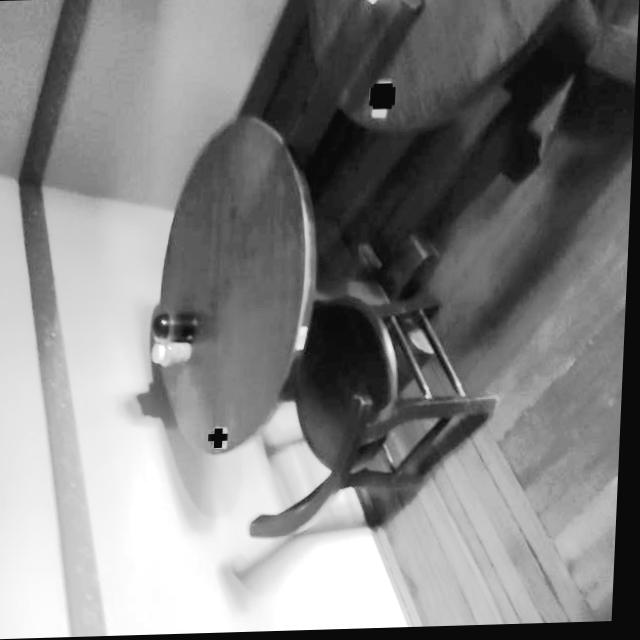qr_code: (372, 87, 396, 109), (215, 431, 230, 446)
